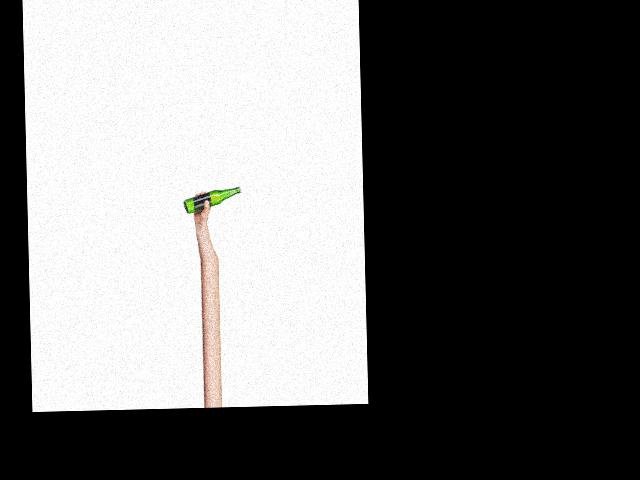beer: (182, 186, 242, 213)
